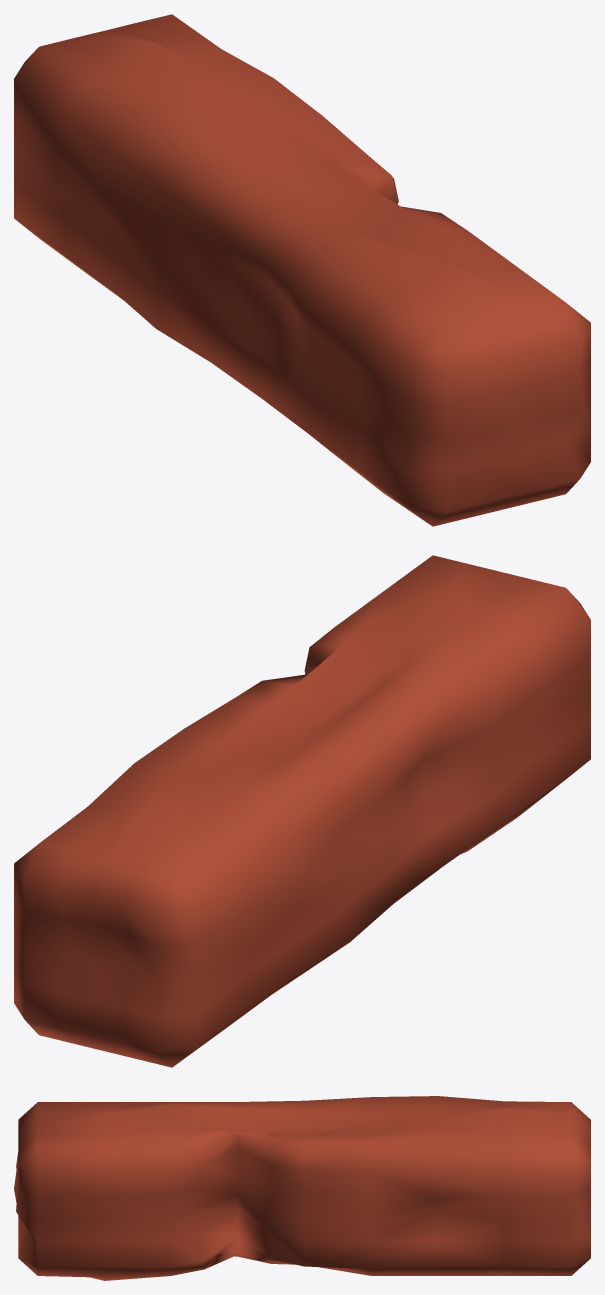
File: RockyWall02.fbx
3 views of the same model, one above another, from view 1: azimuth 30°, elevation 25°; view 2: azimuth 150°, elevation 25°; view 3: azimuth 270°, elevation 25° (orthographic). The views are drawn at different scales.
Visible parts, largest first — view 1: Wall; view 2: Wall; view 3: Wall.
Part boxes in pixels (x1=…): Wall: x1=14, y1=14, x2=590, y2=526; Wall: x1=14, y1=555, x2=590, y2=1067; Wall: x1=14, y1=1096, x2=590, y2=1280.
Bounding box in the file's own units: 1691 × 1871 × 6044.
